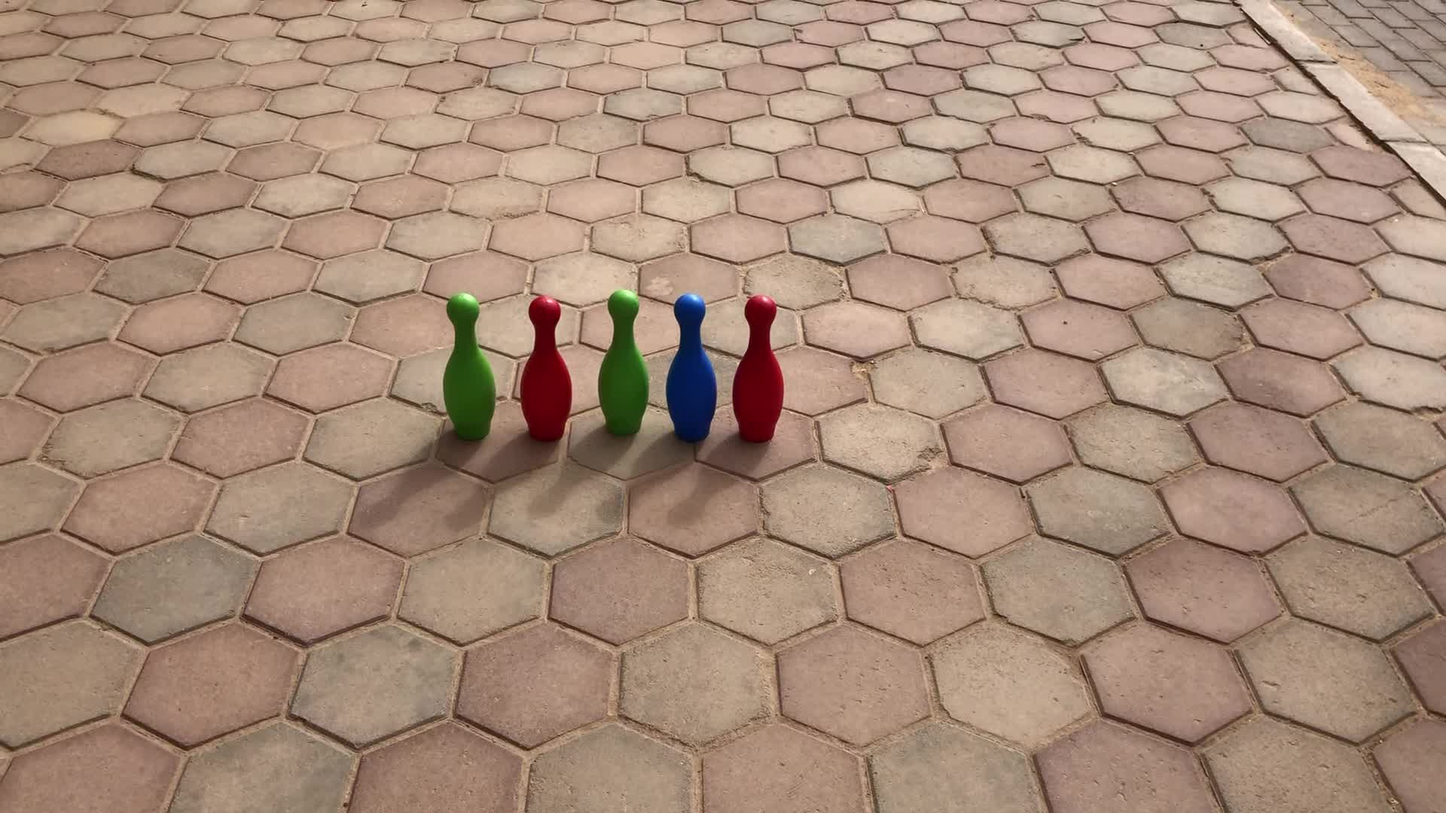bowling-pin: (442, 293, 496, 438), (666, 294, 717, 441), (599, 290, 648, 437), (734, 299, 784, 443), (521, 299, 572, 440)
